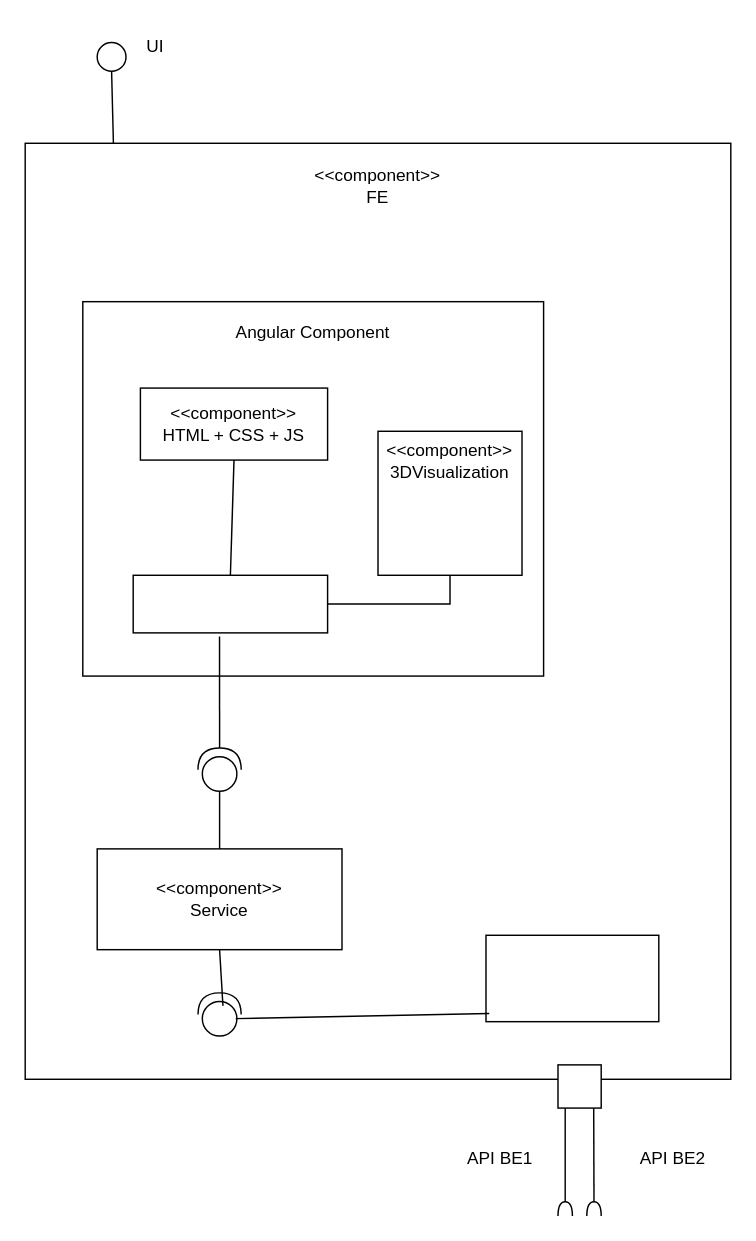
This 756x1241 diagram has some shape labels left out. The shapes that lost their labels are listed below. From the top down, each one's centre as x and y in pixels, then its label:
[230,603]: <<component>> Component
[572,978]: <<component>> HTTP Driver
